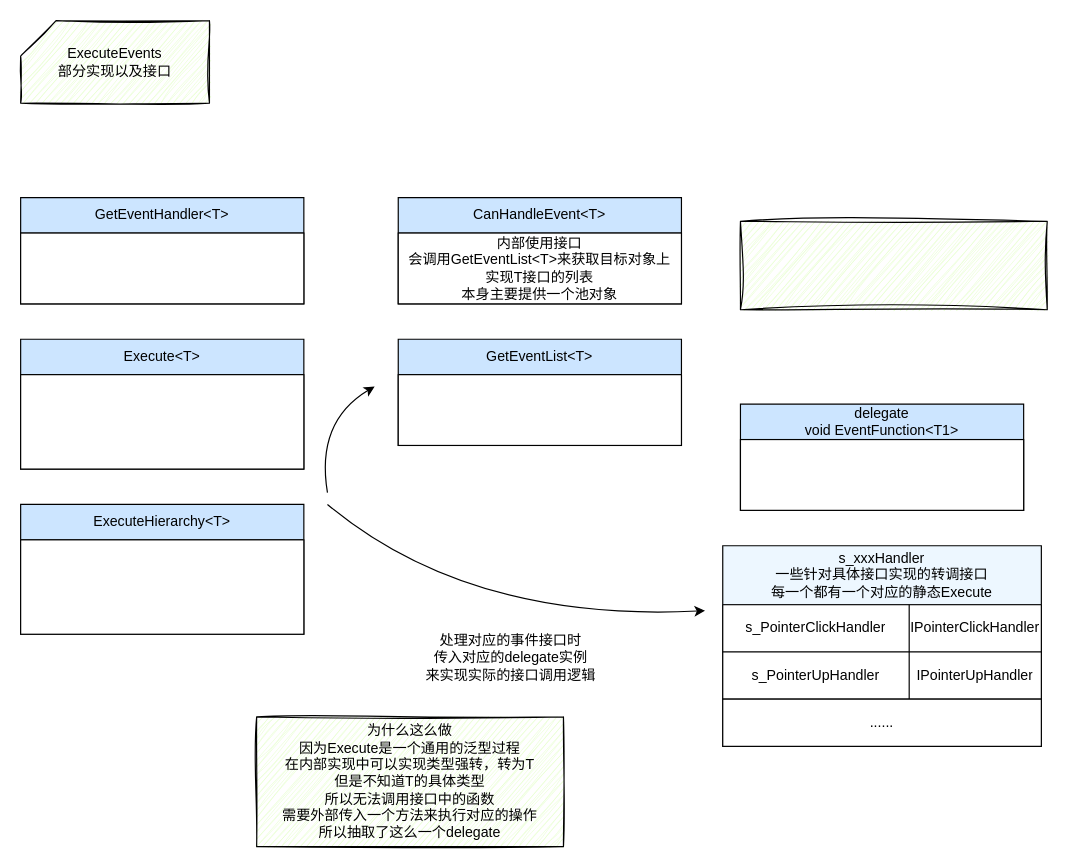
Some shapes in this 1068 by 867 pixel diagram are drawn without their labels. Each missing label, with the centre of its shape:
"事件执行处理接口 调用GetEventList获取目标对象上的 实现列表后 转换类型后，调用对应的Functor进行处理" belongs at [161,421].
"其中执行处理的时候会用到 一系列functor，这是UGUI为了方便调用对应接口而作的一个delegate 将接口类型，和传入的事件数据类型做了解耦" belongs at [893,265].
"内部使用接口 查看目标对象上的所有MonoBehaviour 是否有实现对应接口的组件实例" belongs at [539,409].
"泛型给定目标接口 以root为叶子节点，不断向父节点查找 直到最近一个实现目标接口对象" belongs at [161,268].
"申明的委托类型 T1为目标接口类型 后面一个参数为点击数据的基类" belongs at [881,474].
"相当于GetEventHandler结合Execute 会先把root节点，及其所有父节点都放入列表 针对列表中每个对象 执行Execute处理" belongs at [161,586].
